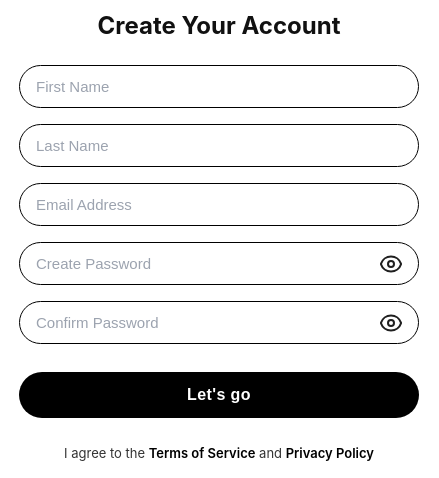
Scenario: RegistrationForm › allows submission when all required fields are filled and valid
This screenshot has width=439, height=478.
Expected: the button "Let's go" is enabled, x1=19 y1=372 x2=419 y2=418
// Fill all fields with valid data
Step 1. Type "John" into the field with placeholder "First Name" → [219, 87], box x1=19 y1=65 x2=419 y2=108
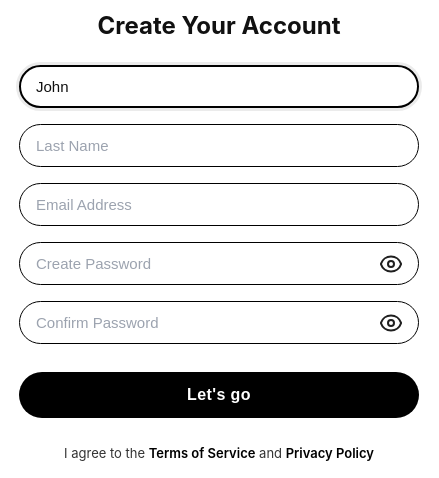
Step 2. Type "Doe" into the field with placeholder "Last Name" → [219, 146], box x1=19 y1=124 x2=419 y2=167
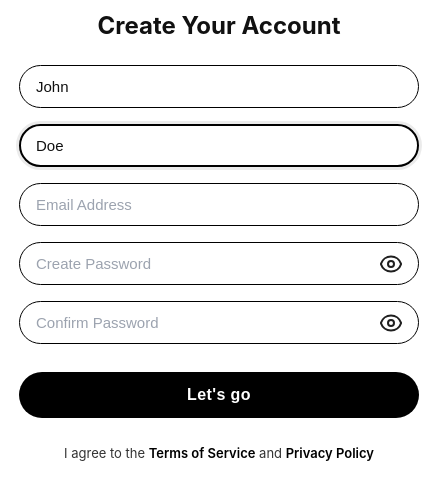
Step 3. Type "john@gmail.com" into the field with placeholder "Email Address" → [219, 205], box x1=19 y1=183 x2=419 y2=226
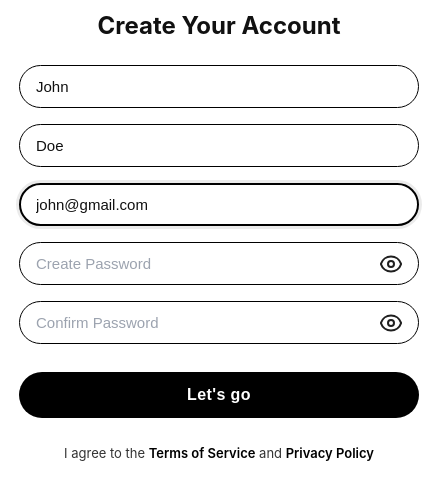
Step 4. Type "Password123!" into the password field with placeholder "Create Password" → [219, 264], box x1=19 y1=242 x2=419 y2=285
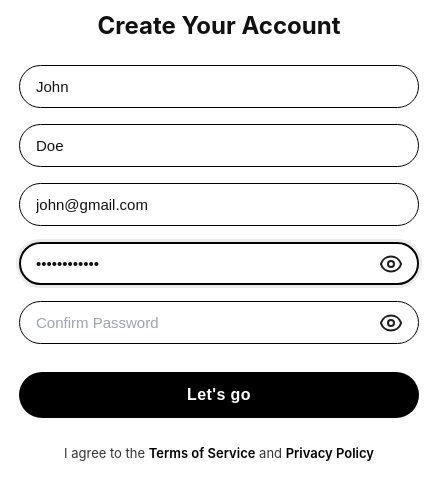
Step 5. Type "Password123!" into the password field with placeholder "Confirm Password" → [219, 323], box x1=19 y1=301 x2=419 y2=344
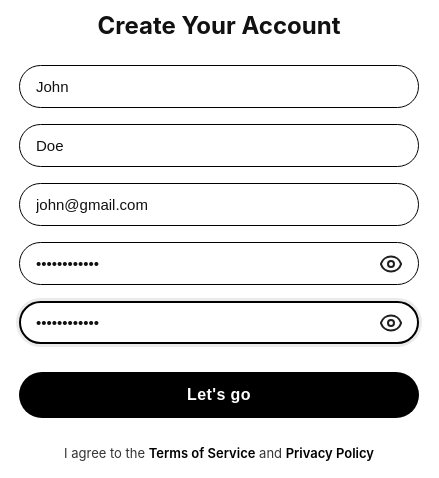
// Submit should succeed without showing warning
Step 6. Click the button "Let's go" → [219, 395], box x1=19 y1=372 x2=419 y2=418
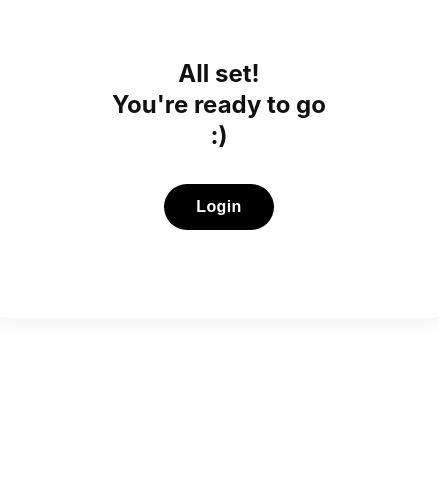
Expected: the heading "All set!You're ready to go:)" is shown, x1=112 y1=58 x2=326 y2=152
